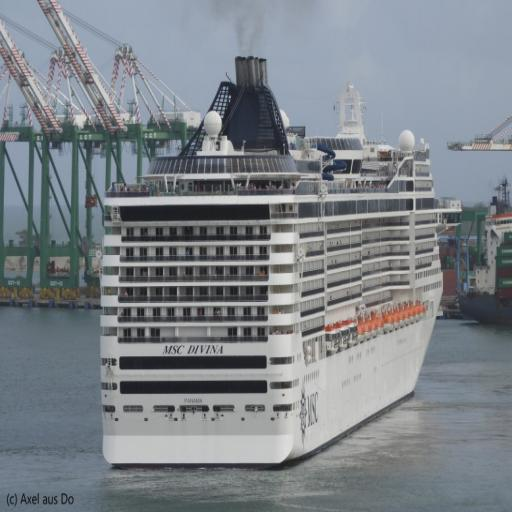cruises: (90, 46, 448, 469)
